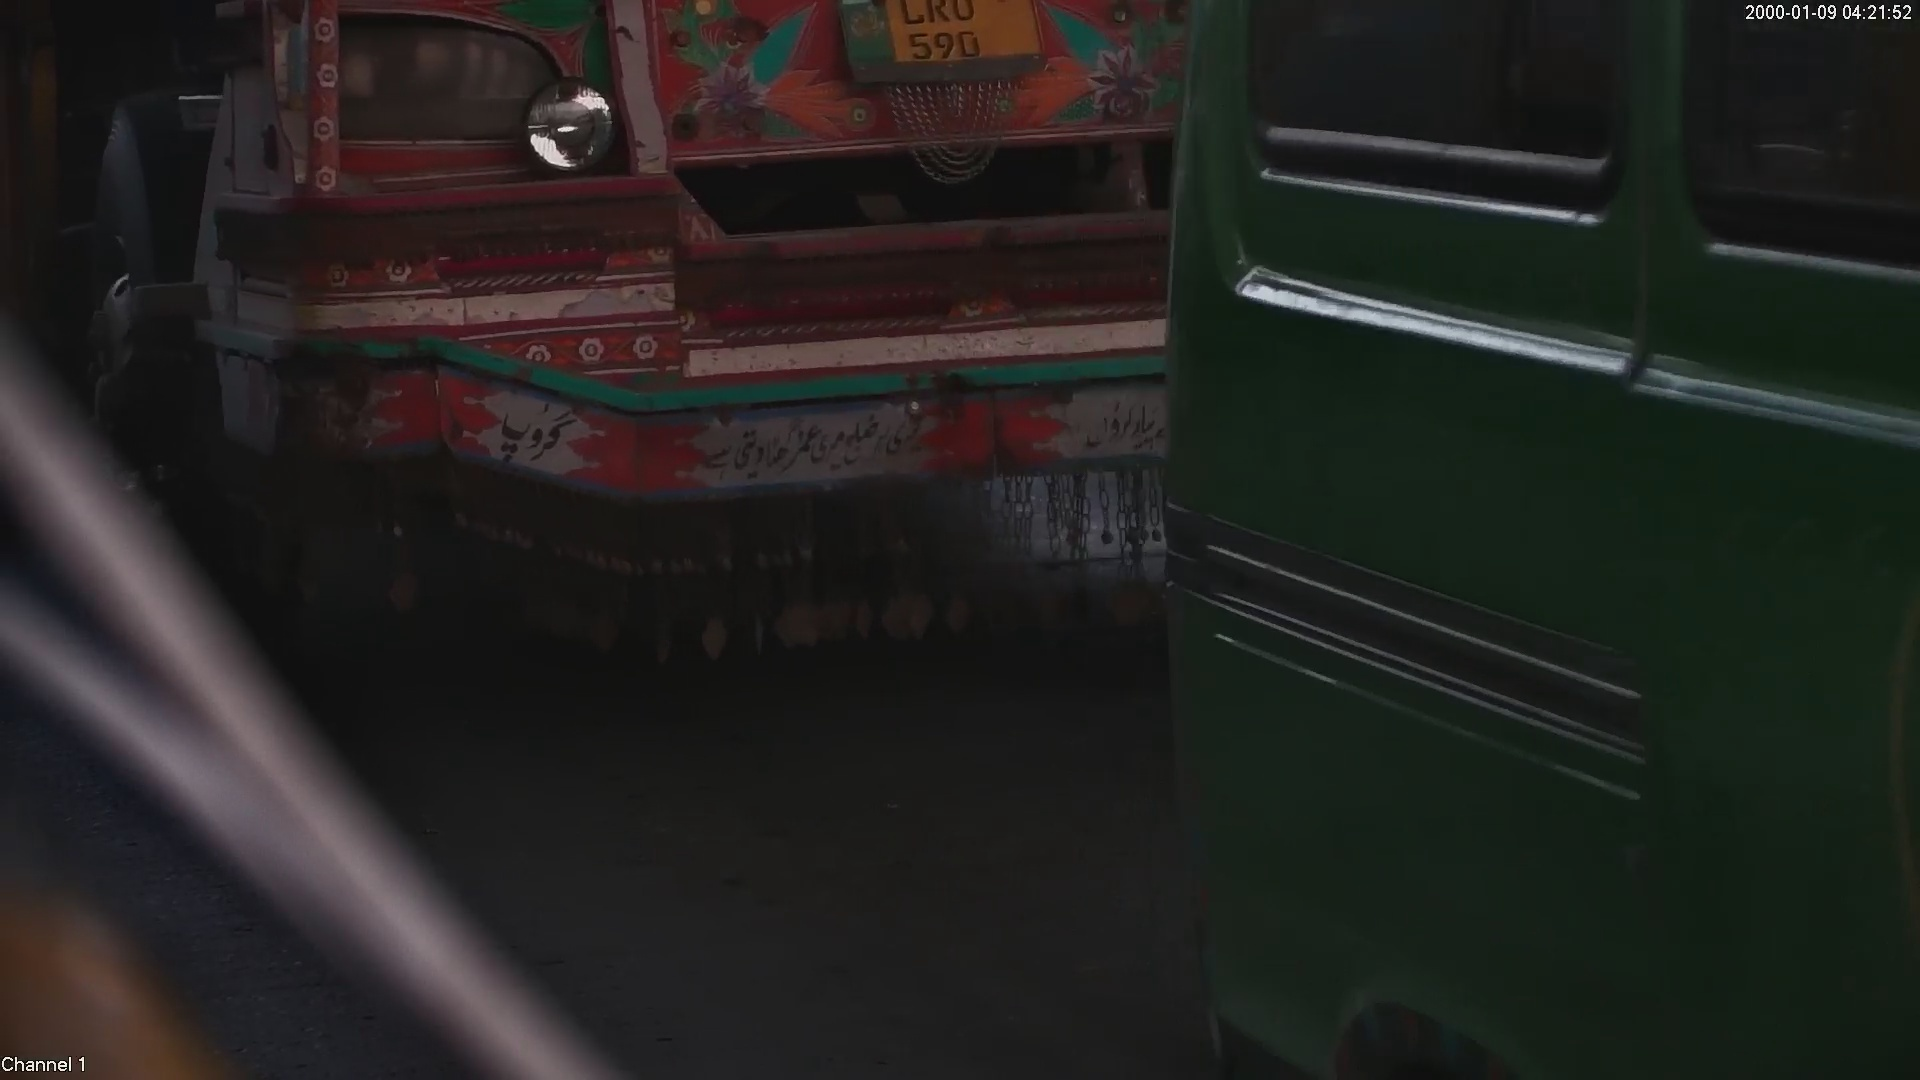Number_Plate: (823, 1, 1076, 79)
Undefined: (328, 18, 643, 196), (678, 394, 956, 481), (423, 366, 597, 486), (893, 92, 1017, 190), (1041, 390, 1169, 470)
